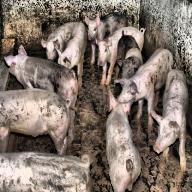boar: (0, 11, 190, 192)
